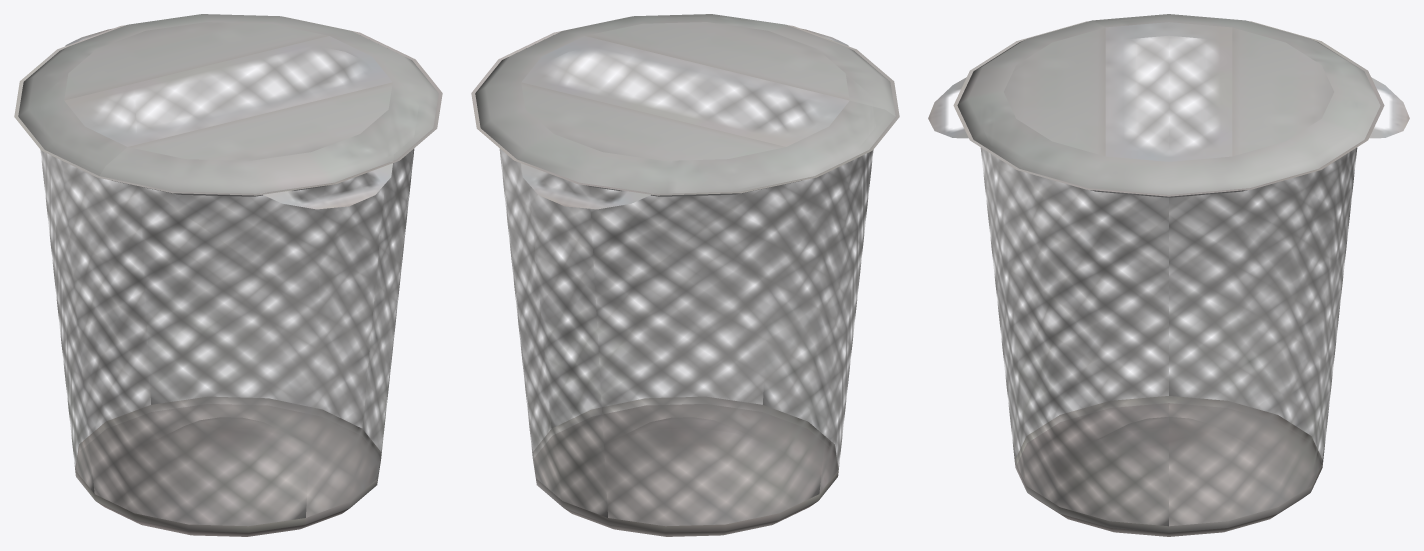
File: ss-wire-bin.lod0.glb
3 renders of one model, left to right at view 1: azimuth 30°, elevation 25°; view 2: azimuth 150°, elevation 25°; view 3: azimuth 270°, elevation 25°, orthographic.
Parts seen in each view (by area): view 1: general_store_furniture_bin_body_general_store_furniture_0; view 2: general_store_furniture_bin_body_general_store_furniture_0; view 3: general_store_furniture_bin_body_general_store_furniture_0.
Part boxes in pixels (x1,y1,x2,y2): general_store_furniture_bin_body_general_store_furniture_0: [14, 14, 442, 536]; general_store_furniture_bin_body_general_store_furniture_0: [471, 14, 899, 536]; general_store_furniture_bin_body_general_store_furniture_0: [928, 14, 1409, 536].
Size of the model in its own units: 0.9027 by 0.8885 by 1.01.
Materials: 1 (1 with a texture image).
